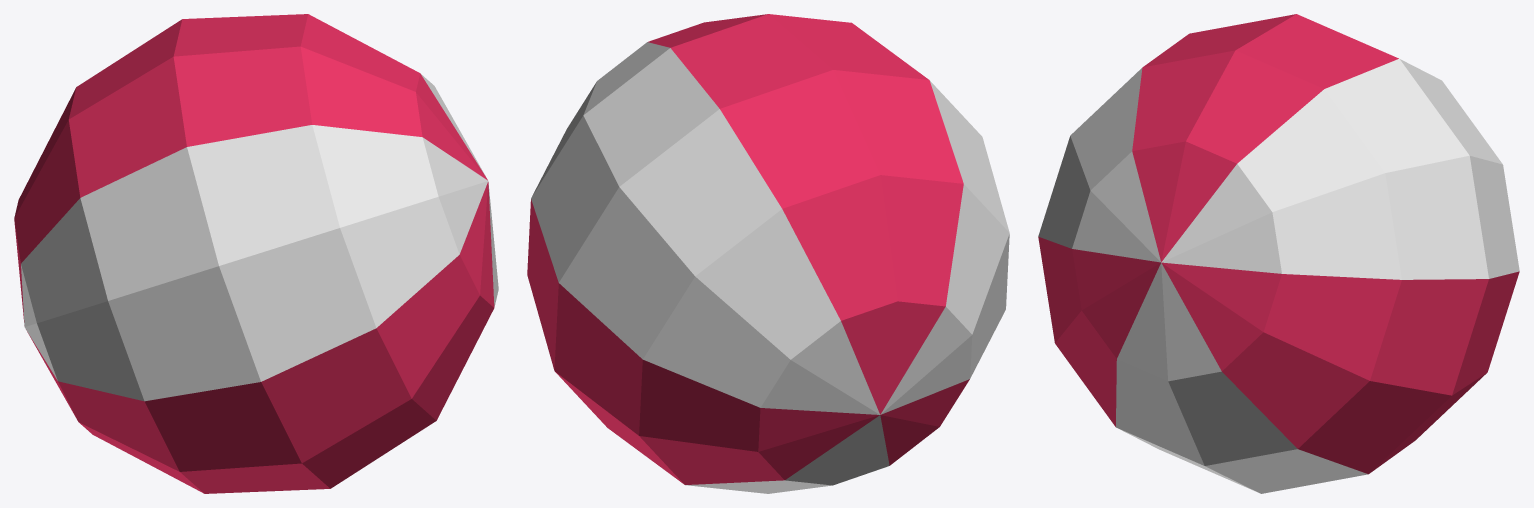
The model's file is mesh_01_01_ballon.fbx.
The picture shows the model from 3 angles, left to right: view 1: azimuth 30°, elevation 25°; view 2: azimuth 150°, elevation 25°; view 3: azimuth 270°, elevation 25°; orthographic projection. The views are drawn at different scales.
Parts seen in each view (by area): view 1: Ballon; view 2: Ballon; view 3: Ballon.
Boxes of the visible parts, x1,y1,x2,y2 form: Ballon: (14, 14, 498, 493); Ballon: (527, 14, 1009, 493); Ballon: (1038, 14, 1519, 493).
Bounding box in the file's own units: 203 × 200 × 204.
